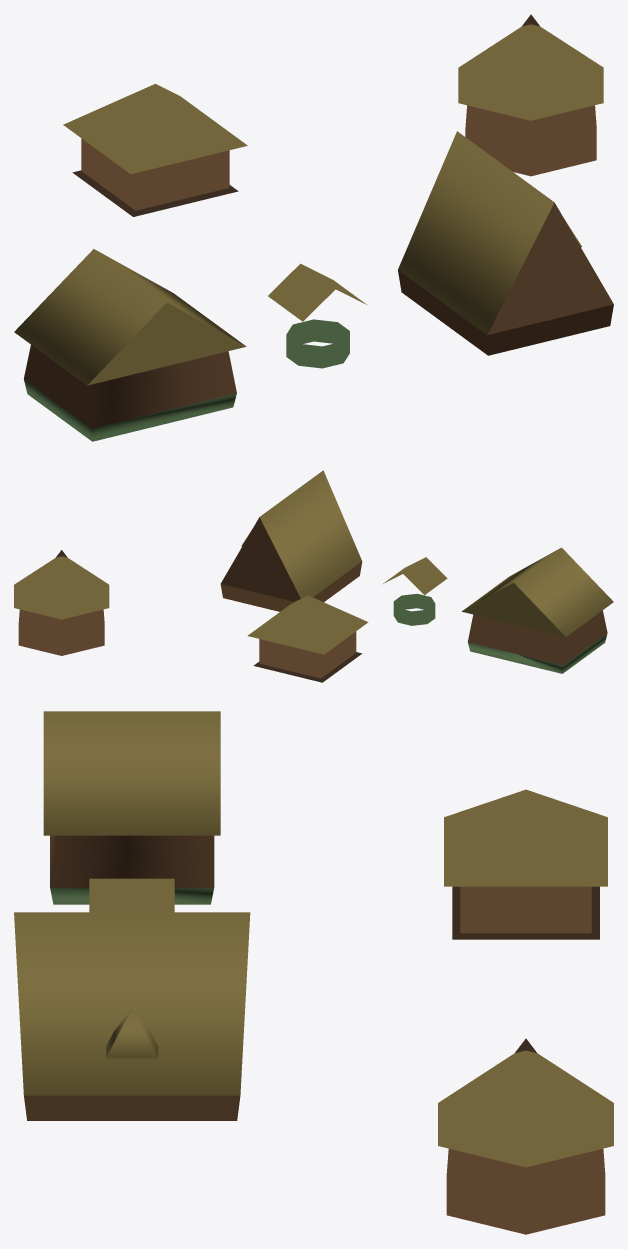
Rendered from forest_village.obj.
3 renders of one model, top to bottom at view 1: azimuth 30°, elevation 25°; view 2: azimuth 150°, elevation 25°; view 3: azimuth 270°, elevation 25°, orthographic. The views are drawn at different scales.
Parts seen in each view (by area): view 1: forest_village; view 2: forest_village; view 3: forest_village.
Boxes of the visible parts, x1,y1,x2,y2 form: forest_village: [14, 14, 613, 441]; forest_village: [14, 470, 613, 682]; forest_village: [14, 711, 613, 1234].
Size of the model in its own units: 30.5 by 6.2 by 18.28.
